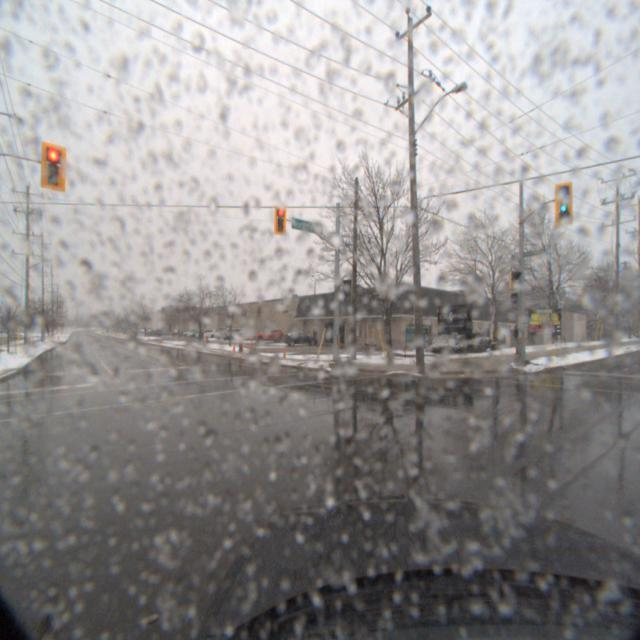Car: (283, 330, 321, 347), (254, 328, 288, 344), (235, 330, 264, 342)
